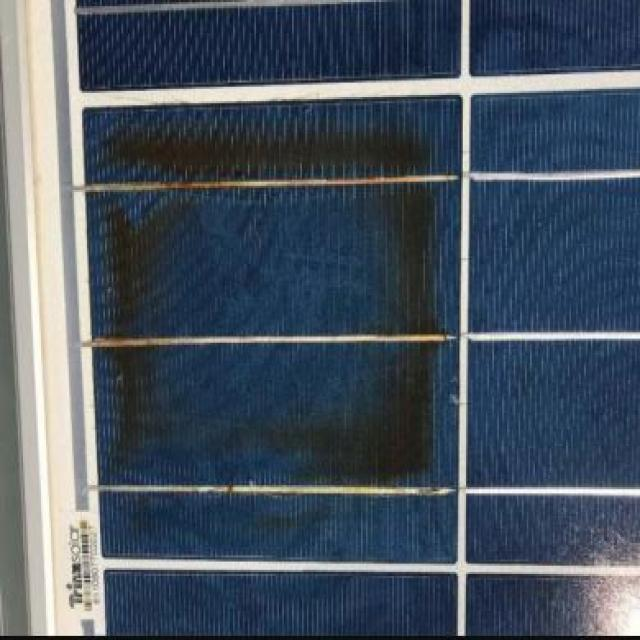electrical damage: (94, 89, 443, 548)
